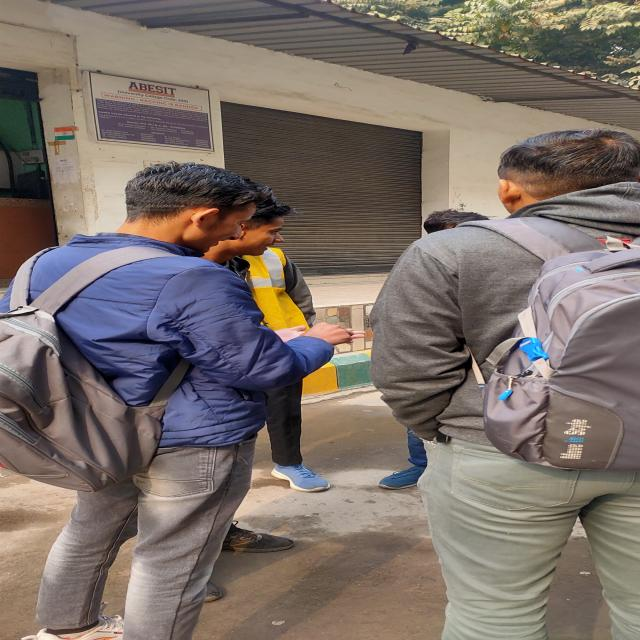unsafe: (14, 154, 344, 640), (358, 137, 622, 640), (219, 205, 342, 501)
